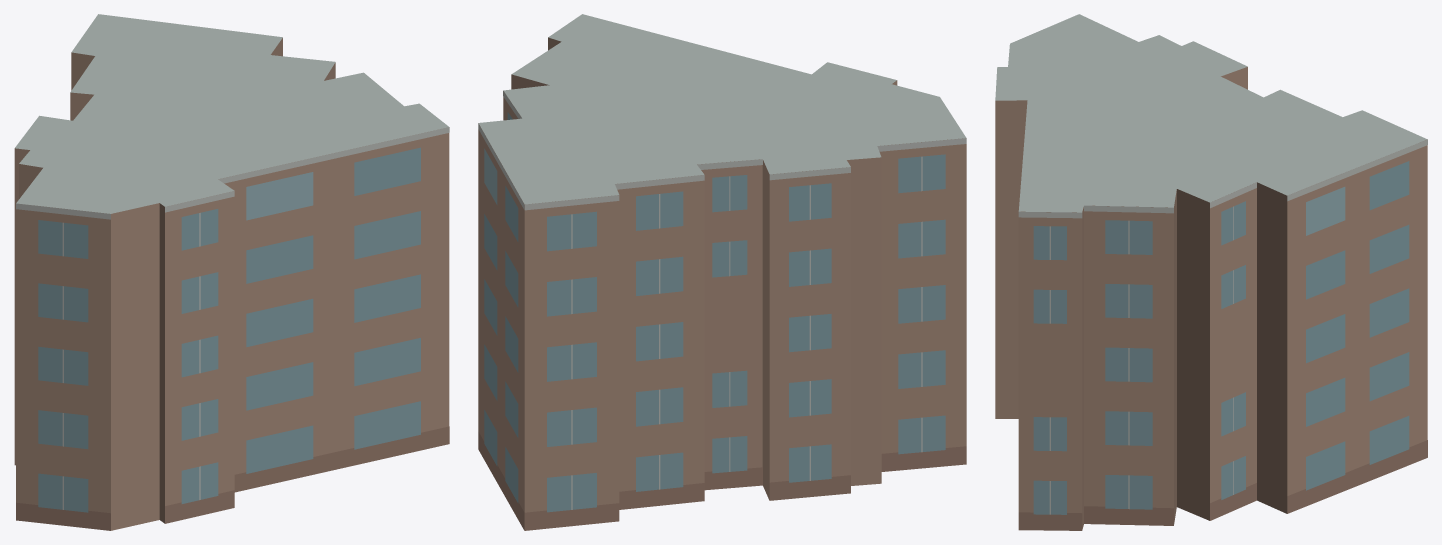
File: survey-upis-33015420.glb
3 views of the same model, side by side, from view 1: azimuth 30°, elevation 25°; view 2: azimuth 150°, elevation 25°; view 3: azimuth 270°, elevation 25° (orthographic). The views are drawn at different scales.
Parts seen in each view (by area): view 1: survey-upis-33015420.tmp; view 2: survey-upis-33015420.tmp; view 3: survey-upis-33015420.tmp.
Part boxes in pixels (x1,y1,x2,y2): survey-upis-33015420.tmp: [14, 14, 449, 530]; survey-upis-33015420.tmp: [478, 14, 966, 530]; survey-upis-33015420.tmp: [995, 14, 1427, 530].
Bounding box in the file's own units: 18.06 × 13.5 × 16.63.
